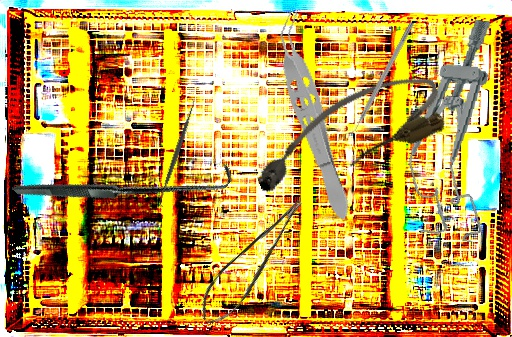Cannula: (241, 62, 453, 206)
Chopper: (342, 18, 415, 140)
Hook Surgical: (11, 69, 237, 294)
Micro Scissor: (187, 195, 323, 332)
Spatula Surgical: (153, 98, 201, 208)
Speculum: (399, 13, 508, 244)
Tissue Forceps: (264, 9, 362, 224)
